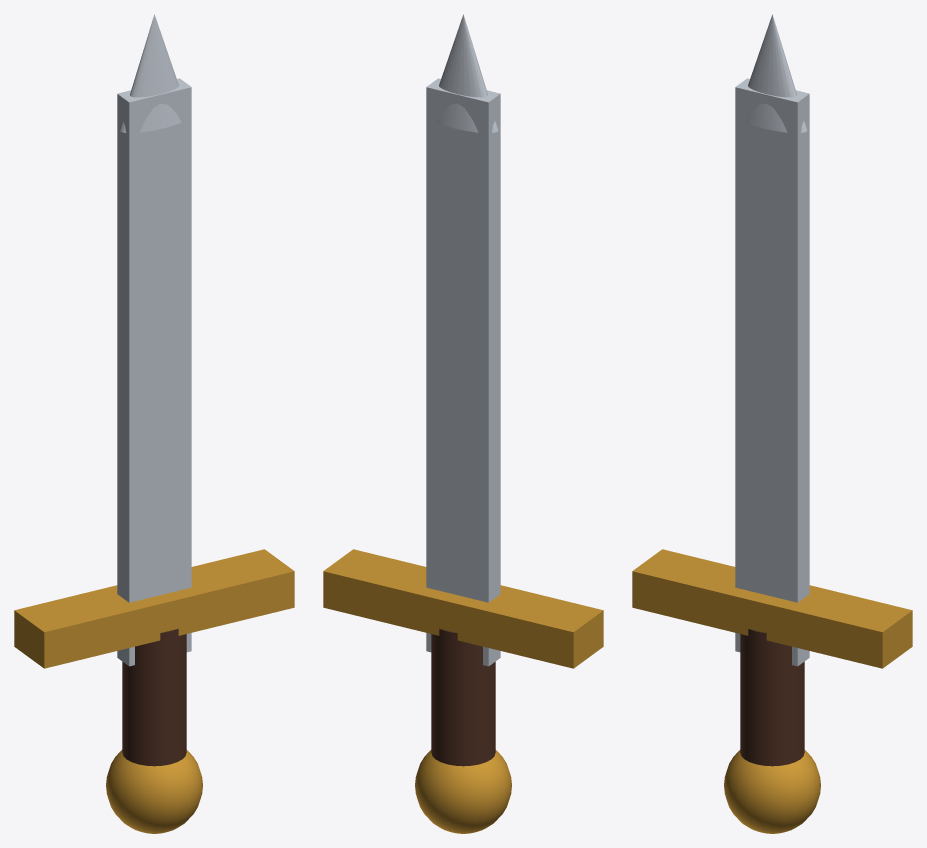
File: v05-sword.glb
3 views of the same model, side by side, from view 1: azimuth 30°, elevation 25°; view 2: azimuth 150°, elevation 25°; view 3: azimuth 330°, elevation 25° (orthographic).
Parts seen in each view (by area): view 1: 검날, 가드, 손잡이, 폼멜, 검끝; view 2: 검날, 가드, 손잡이, 폼멜, 검끝; view 3: 검날, 가드, 손잡이, 폼멜, 검끝.
Part boxes in pixels (x1,y1,x2,y2): 검날: [117, 78, 191, 666]; 가드: [14, 549, 294, 668]; 손잡이: [122, 628, 186, 766]; 폼멜: [106, 750, 202, 833]; 검끝: [119, 14, 181, 132]; 검날: [426, 78, 500, 666]; 가드: [323, 549, 603, 668]; 손잡이: [431, 628, 495, 766]; 폼멜: [415, 750, 511, 833]; 검끝: [436, 14, 498, 132]; 검날: [735, 78, 809, 666]; 가드: [632, 549, 912, 668]; 손잡이: [740, 628, 804, 766]; 폼멜: [724, 750, 820, 833]; 검끝: [745, 14, 807, 132].
Size of the model in its own units: 1.44 by 4.48 by 0.484.
